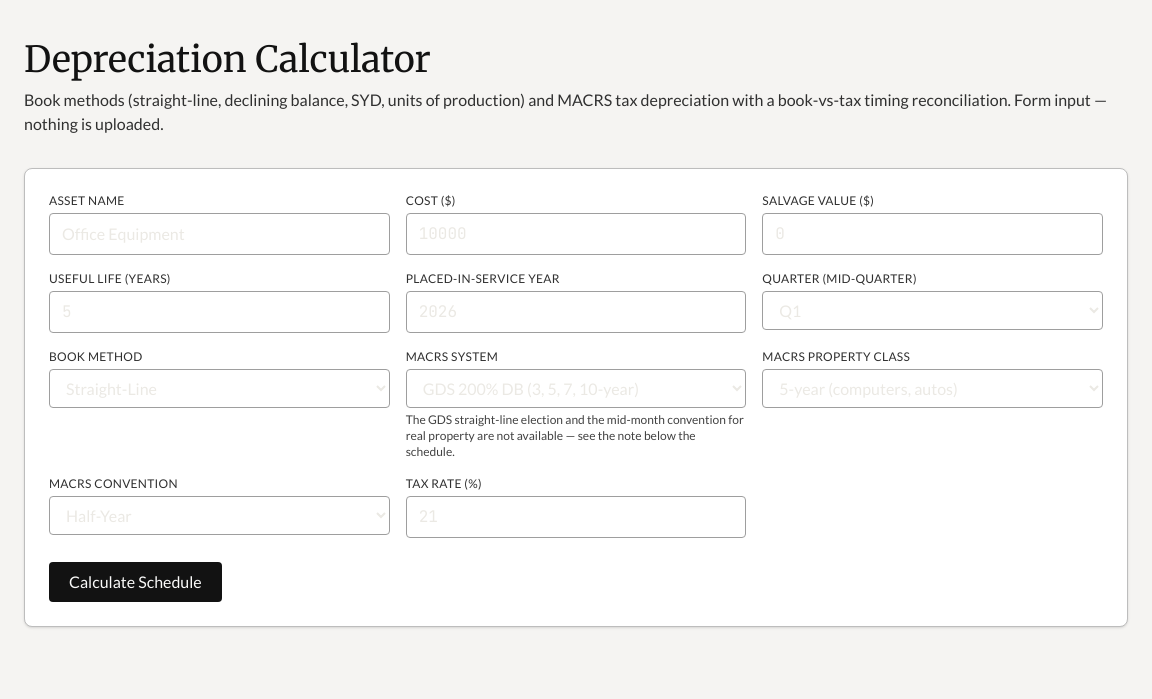
Test case: DepreciationPage › renders the result tables and summary cards on success
Click the button "Calculate Schedule" at (135, 582), box [49,562,222,602]
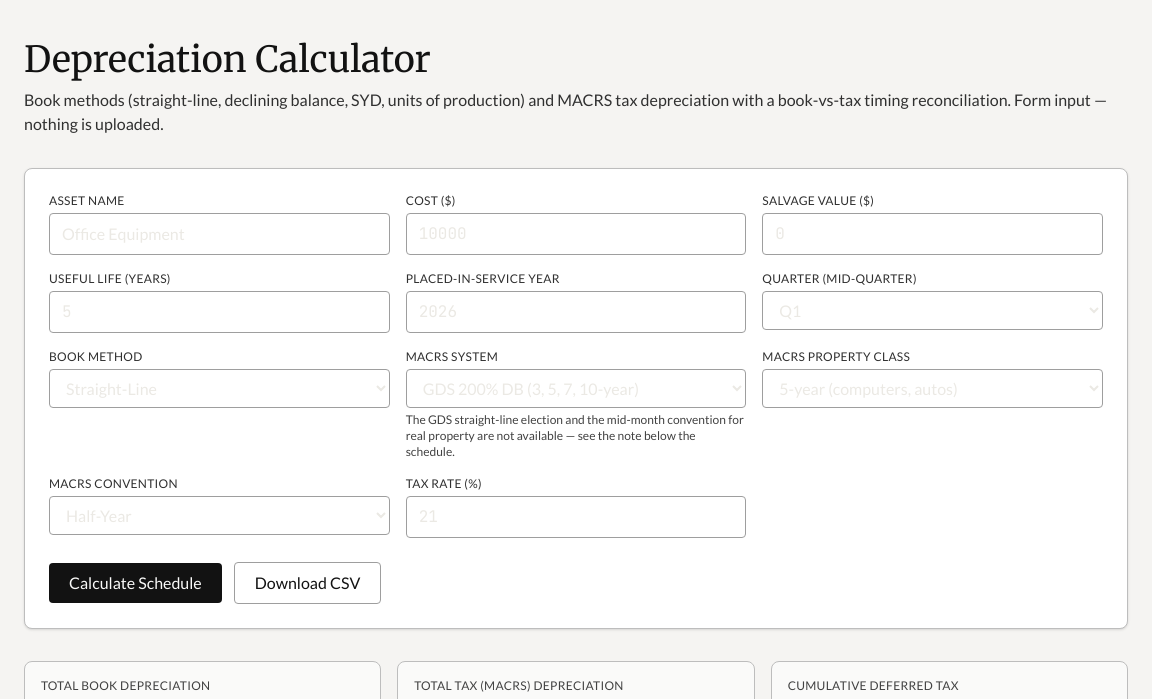
Now the text "Total Book Depreciation" is shown, box [41,678,210,693]
Now the text "Cumulative Deferred Tax" is shown, box [788,678,959,693]
Now the button "Download CSV" is shown, box [234,562,381,604]
